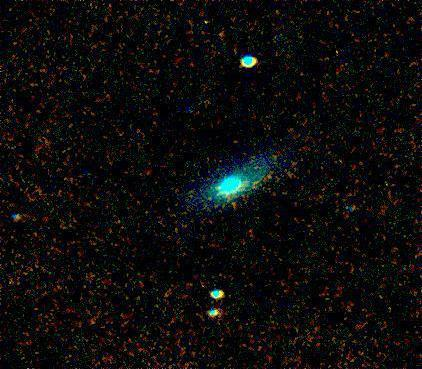star: (254, 163, 284, 193)
